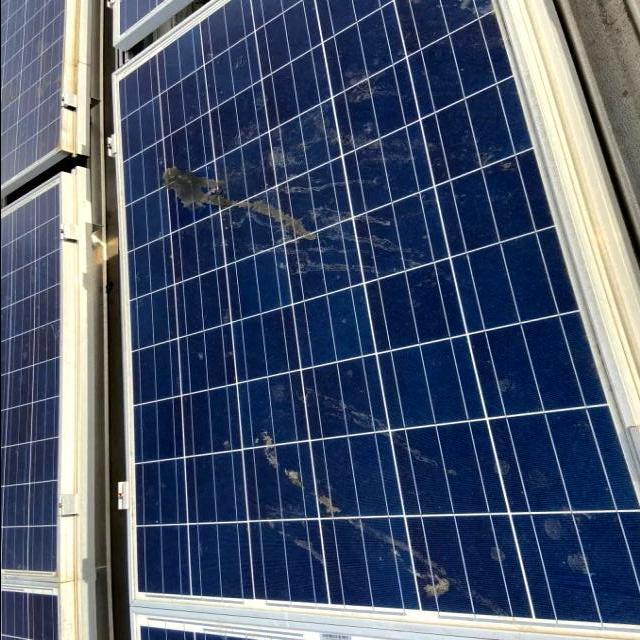soiled: (112, 5, 640, 634)
